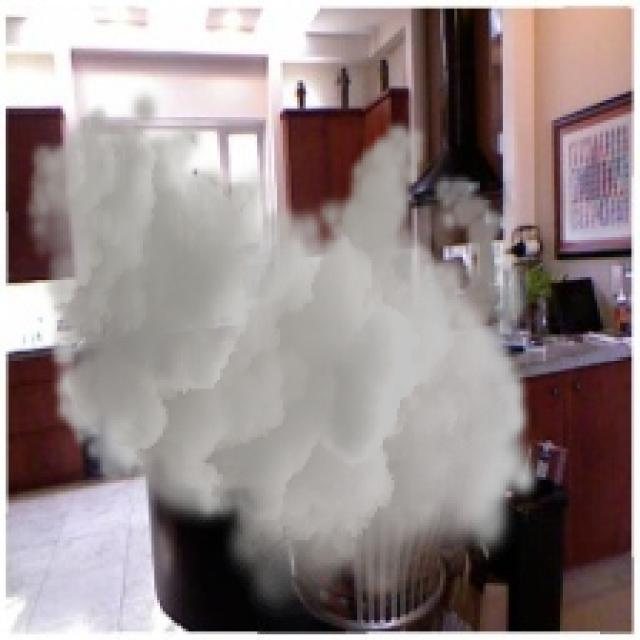smoke: (23, 86, 543, 623)
